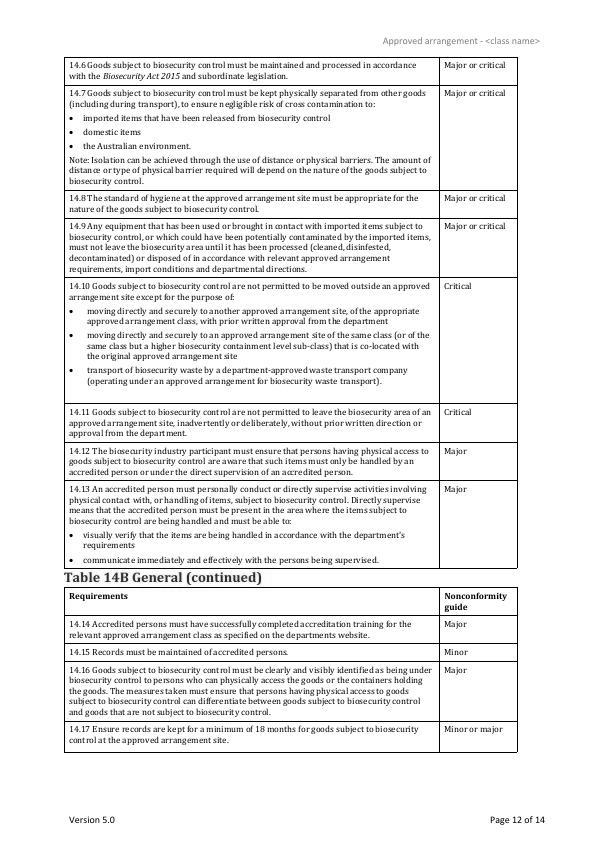table: (61, 54, 525, 571), (61, 585, 521, 756)
text: (60, 568, 264, 586)
